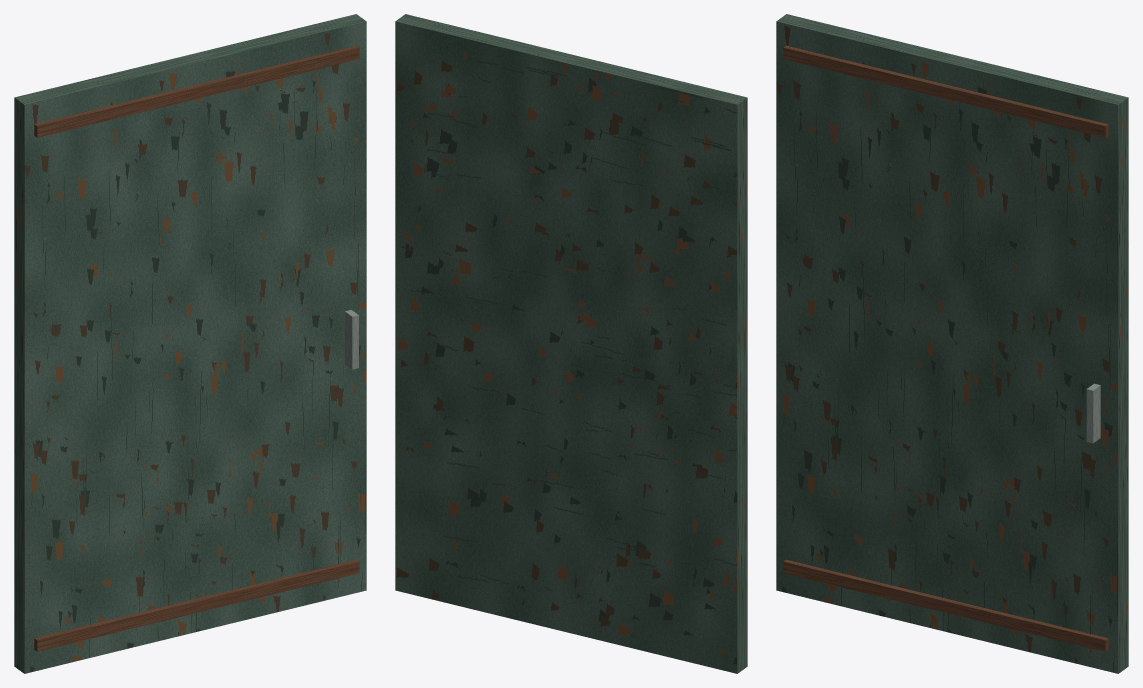
File: CIS_GarageDoorLeft.glb
3 renders of one model, left to right at view 1: azimuth 30°, elevation 25°; view 2: azimuth 150°, elevation 25°; view 3: azimuth 330°, elevation 25°, orthographic.
Parts seen in each view (by area): view 1: CIS_GarageDoorLeft; view 2: CIS_GarageDoorLeft; view 3: CIS_GarageDoorLeft.
Boxes of the visible parts, x1=… form: CIS_GarageDoorLeft: x1=14, y1=14, x2=366, y2=673; CIS_GarageDoorLeft: x1=395, y1=14, x2=747, y2=673; CIS_GarageDoorLeft: x1=776, y1=14, x2=1128, y2=673.
Bounding box in the file's own units: 1.56 × 2.48 × 0.15.
Materials: 3 (3 with a texture image).
